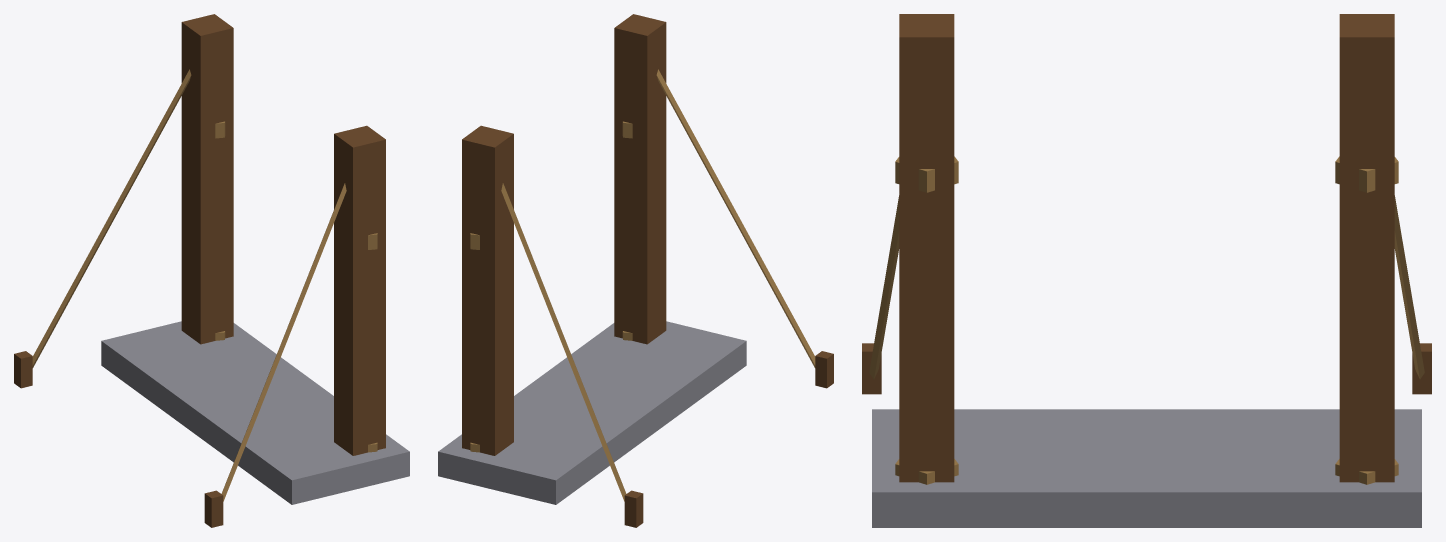
Rendered from Prop_YTM_RopeBridge_Anchor_LOD1.glb.
3 views of the same model, side by side, from view 1: azimuth 30°, elevation 25°; view 2: azimuth 150°, elevation 25°; view 3: azimuth 270°, elevation 25° (orthographic). The views are drawn at different scales.
Visible parts, largest first — view 1: Prop_YTM_RopeBridge_Anchor; view 2: Prop_YTM_RopeBridge_Anchor; view 3: Prop_YTM_RopeBridge_Anchor.
Part boxes in pixels (x1,y1,x2,y2): Prop_YTM_RopeBridge_Anchor: (14,14,409,527); Prop_YTM_RopeBridge_Anchor: (438,14,833,527); Prop_YTM_RopeBridge_Anchor: (862,14,1431,527).
Size of the model in its own units: 0.855 by 1.35 by 1.45.
